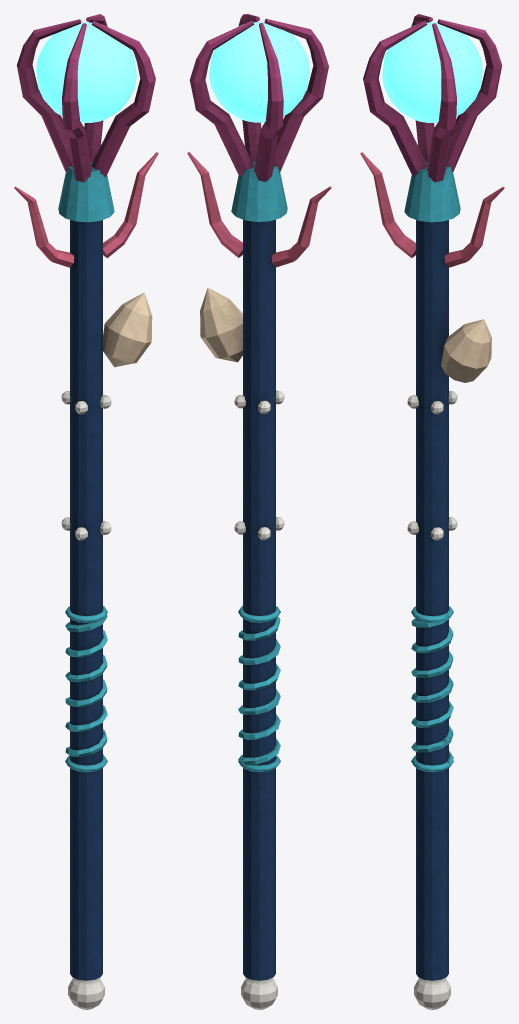
File: 10_abyss_magic.fbx
The picture shows the model from 3 angles, left to right: view 1: azimuth 30°, elevation 25°; view 2: azimuth 150°, elevation 25°; view 3: azimuth 330°, elevation 25°; orthographic projection.
Parts seen in each view (by area): view 1: Weapon; view 2: Weapon; view 3: Weapon.
Boxes of the visible parts, x1=… form: Weapon: x1=14, y1=14, x2=158, y2=1009; Weapon: x1=187, y1=14, x2=331, y2=1009; Weapon: x1=360, y1=14, x2=504, y2=1009.
Bounding box in the file's own units: 25.61 × 168 × 16.31.
2 materials, 1 textured.
